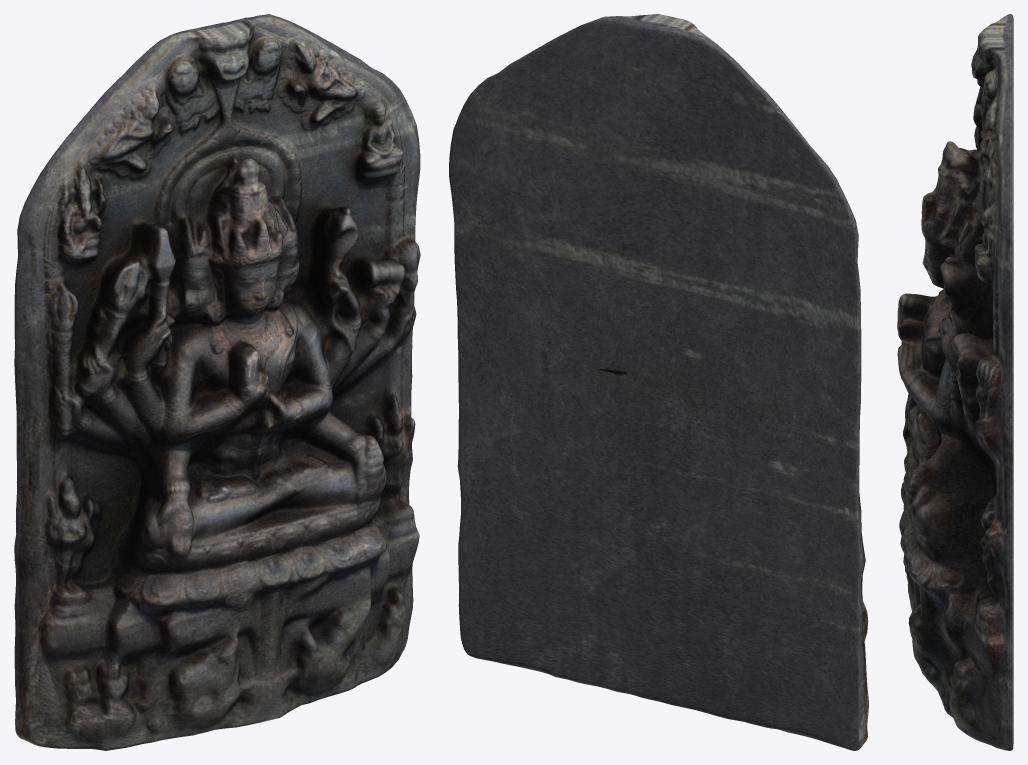
File: Shiva.fbx
3 views of the same model, side by side, from view 1: azimuth 30°, elevation 25°; view 2: azimuth 150°, elevation 25°; view 3: azimuth 270°, elevation 25° (orthographic). The views are drawn at different scales.
Parts seen in each view (by area): view 1: LRx2; view 2: LRx2; view 3: LRx2.
Part boxes in pixels (bbox=[...]): LRx2: bbox=[14, 14, 420, 750]; LRx2: bbox=[449, 14, 868, 750]; LRx2: bbox=[897, 14, 1013, 750].
Size of the model in its own units: 25.72 by 40.41 by 6.77.
Materials: 1 (1 with a texture image).
